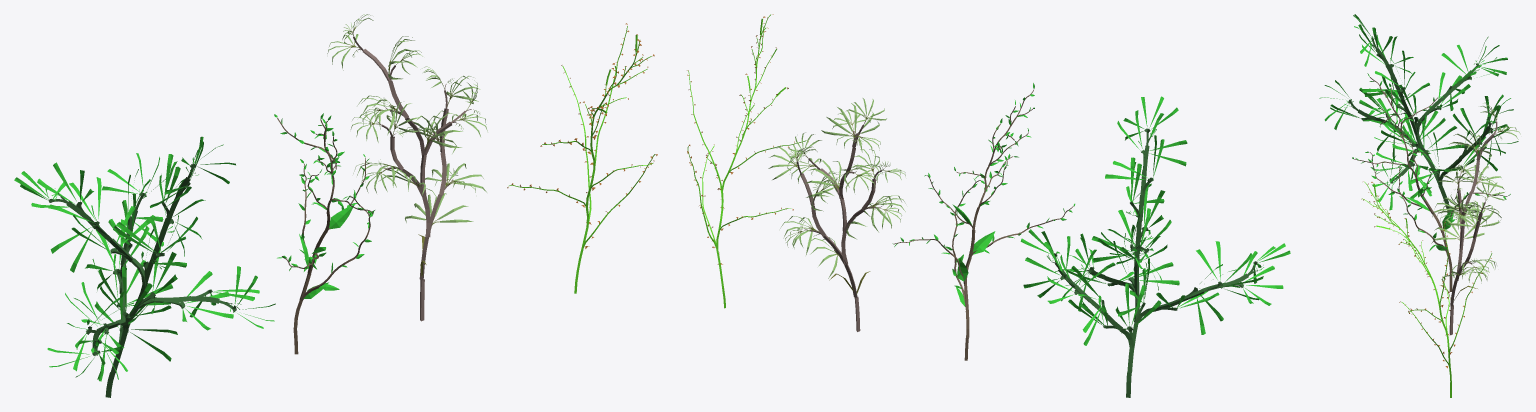
Rendered from Bushes and shrubs_saved.obj.
The picture shows the model from 3 angles, left to right: view 1: azimuth 30°, elevation 25°; view 2: azimuth 150°, elevation 25°; view 3: azimuth 270°, elevation 25°; orthographic projection. The views are drawn at different scales.
Visible parts, largest first — view 1: Pineybu, thinshr, tree-lik, coral-li; view 2: Pineybu, thinshr, tree-lik, coral-li; view 3: Pineybu, thinshr, tree-lik, coral-li.
Part boxes in pixels (box(x1,y1,x2,y2)): Pineybu: box(14, 136, 275, 397); thinshr: box(327, 14, 487, 321); tree-lik: box(274, 113, 374, 354); coral-li: box(507, 23, 657, 293); Pineybu: box(1020, 96, 1290, 397); thinshr: box(768, 98, 905, 331); tree-lik: box(892, 83, 1075, 360); coral-li: box(687, 14, 808, 308); Pineybu: box(1319, 14, 1518, 212); thinshr: box(1431, 102, 1520, 335); tree-lik: box(1352, 73, 1510, 291); coral-li: box(1361, 181, 1492, 397).
Size of the model in its own units: 391 by 182 by 148.
